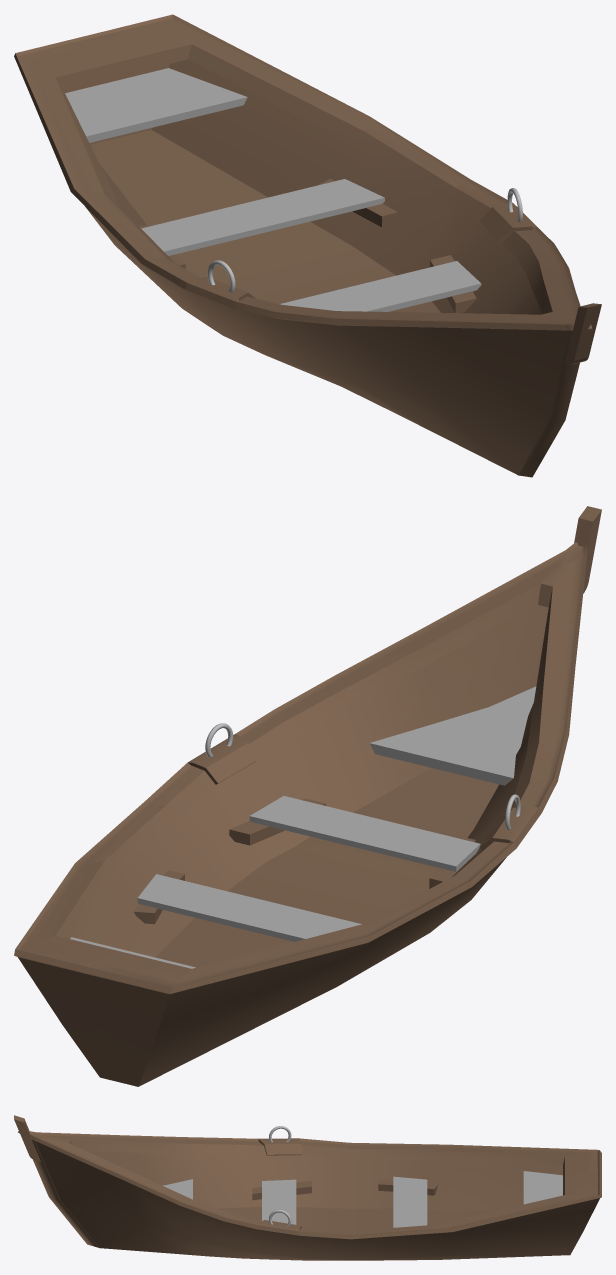
The model's file is BOAT.fbx.
The picture shows the model from 3 angles, top to bottom: view 1: azimuth 30°, elevation 25°; view 2: azimuth 150°, elevation 25°; view 3: azimuth 270°, elevation 25°; orthographic projection. The views are drawn at different scales.
Parts seen in each view (by area): view 1: pasted__polySurface10, pasted__polySurface2, pasted__pCylinder2; view 2: pasted__polySurface10, pasted__polySurface2; view 3: pasted__polySurface10, pasted__polySurface2, pasted__pCylinder2.
Boxes of the visible parts, <box> form: pasted__polySurface10: <box>14,14,601,477</box>; pasted__polySurface2: <box>65,68,481,311</box>; pasted__pCylinder2: <box>207,188,522,292</box>; pasted__polySurface10: <box>14,506,601,1086</box>; pasted__polySurface2: <box>70,686,536,968</box>; pasted__polySurface10: <box>14,1115,601,1260</box>; pasted__polySurface2: <box>163,1171,562,1227</box>; pasted__pCylinder2: <box>269,1126,291,1226</box>.
Size of the model in its own units: 9.98 by 6.52 by 26.23.
